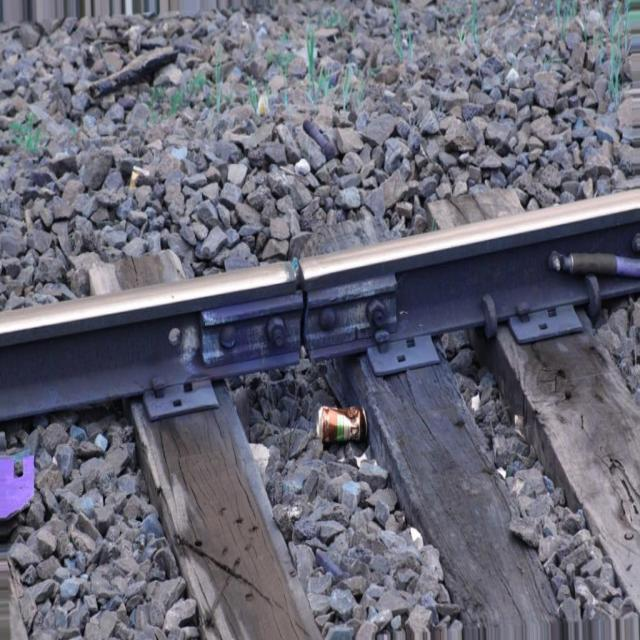Missing Dogscrew: (184, 382, 192, 391)
